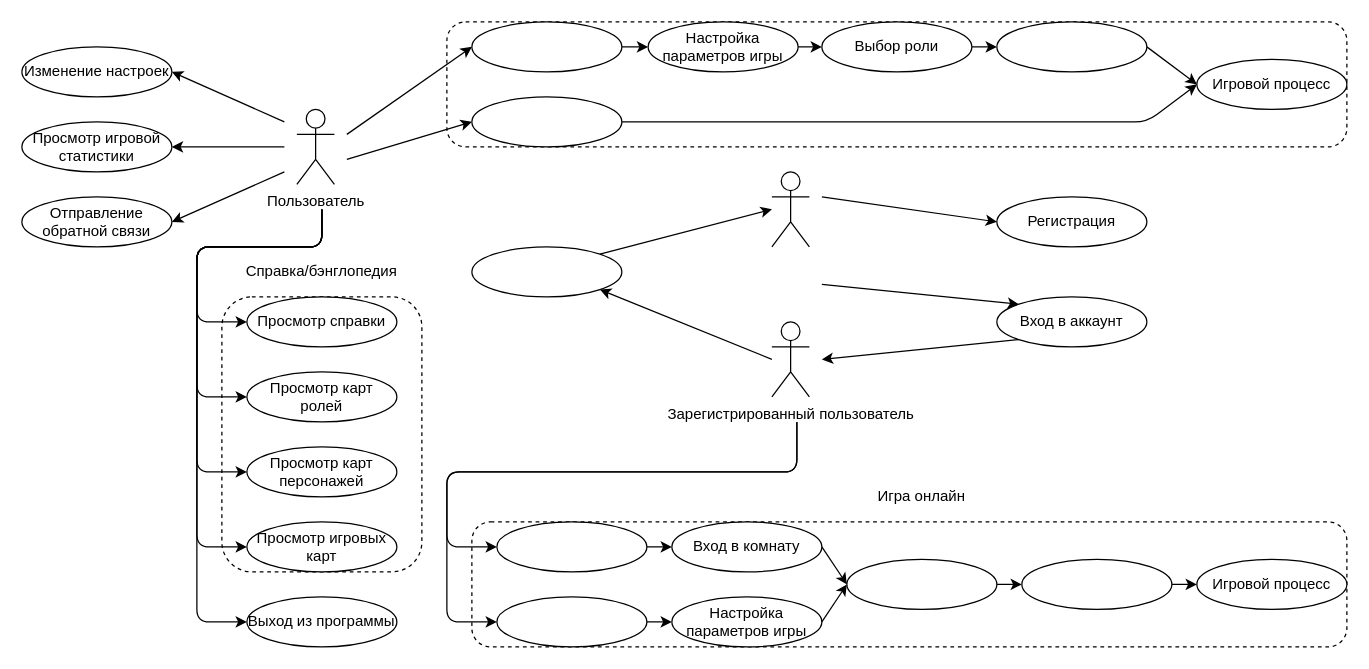
Image size: 1369x669. Some labels were removed from this diagram. Here are the shapes that lost their labels. From the top down, the centre of each, then its label:
At pixel 546 46: "Создание новой игры".
At pixel 1071 46: "Выбор персонажа".
At pixel 546 121: "Загрузка существующей игры".
At pixel 790 209: "Незарегистрированный пользователь".
At pixel 546 271: "Выход из аккаунта".
At pixel 571 546: "Просмотр созданных комнат".
At pixel 921 583: "Ожидание присоединения игроков".
At pixel 1096 583: "Ожидание подтверждения готовности".
At pixel 571 621: "Создание комнаты".
